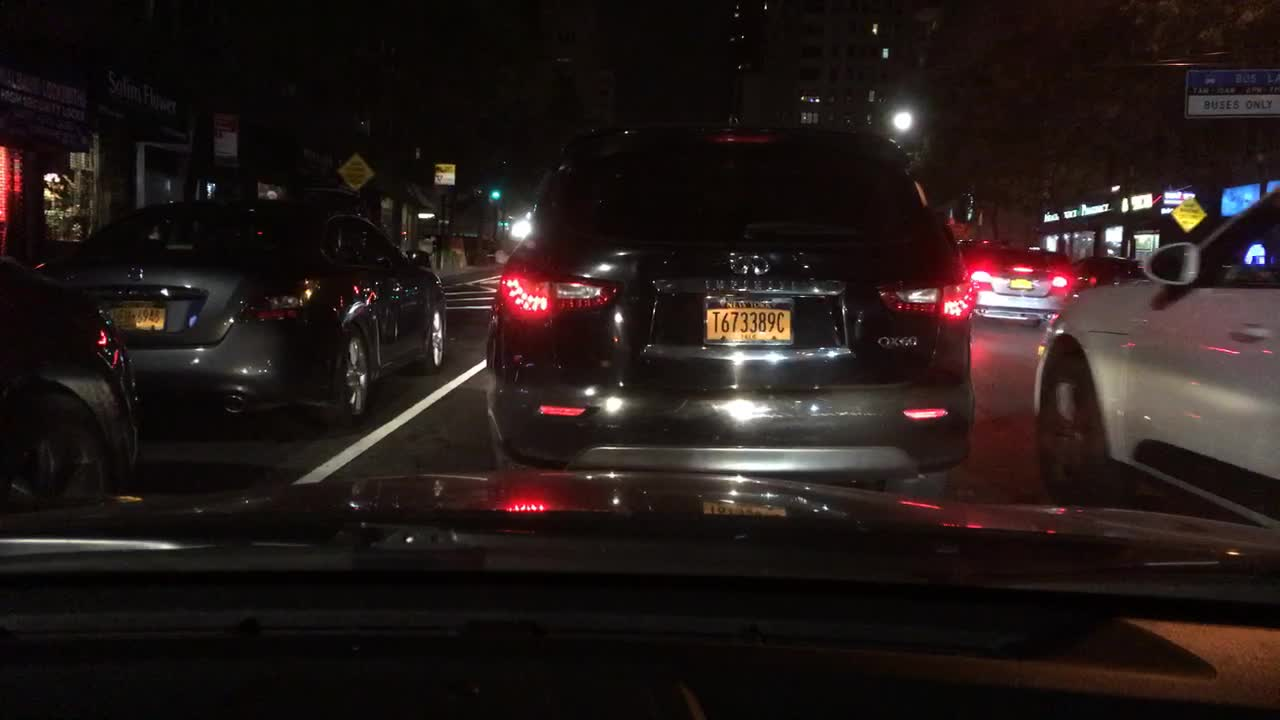car: (484, 126, 974, 501), (33, 198, 451, 424), (1030, 187, 1277, 530), (0, 255, 137, 506), (957, 237, 1070, 326), (1069, 255, 1145, 293)
traffic light: (491, 182, 501, 202)
traffic sign: (1184, 69, 1278, 117), (336, 152, 374, 190), (1170, 194, 1205, 232), (434, 164, 456, 184)
